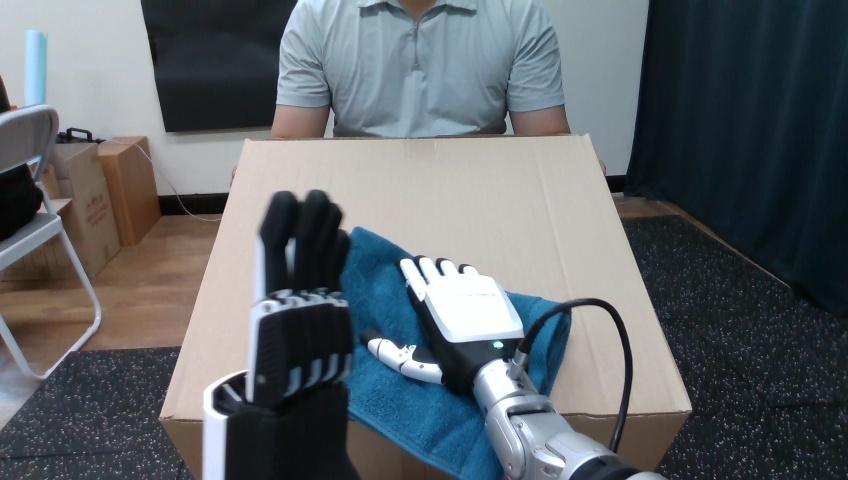left robot hand: (361, 256, 664, 479), (525, 305, 625, 448)
